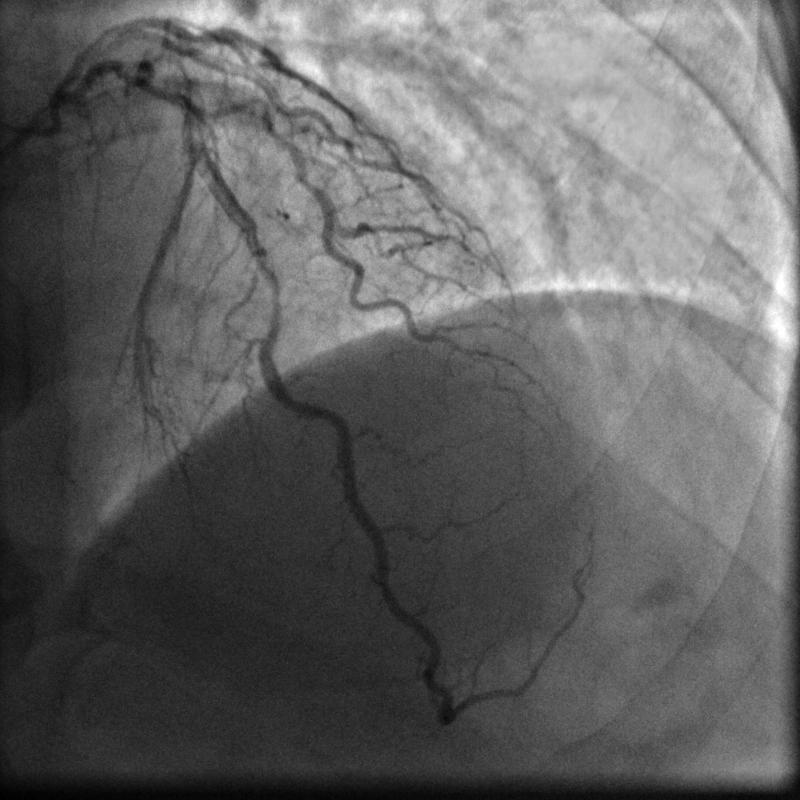Stenosis: (248, 256, 284, 339)
